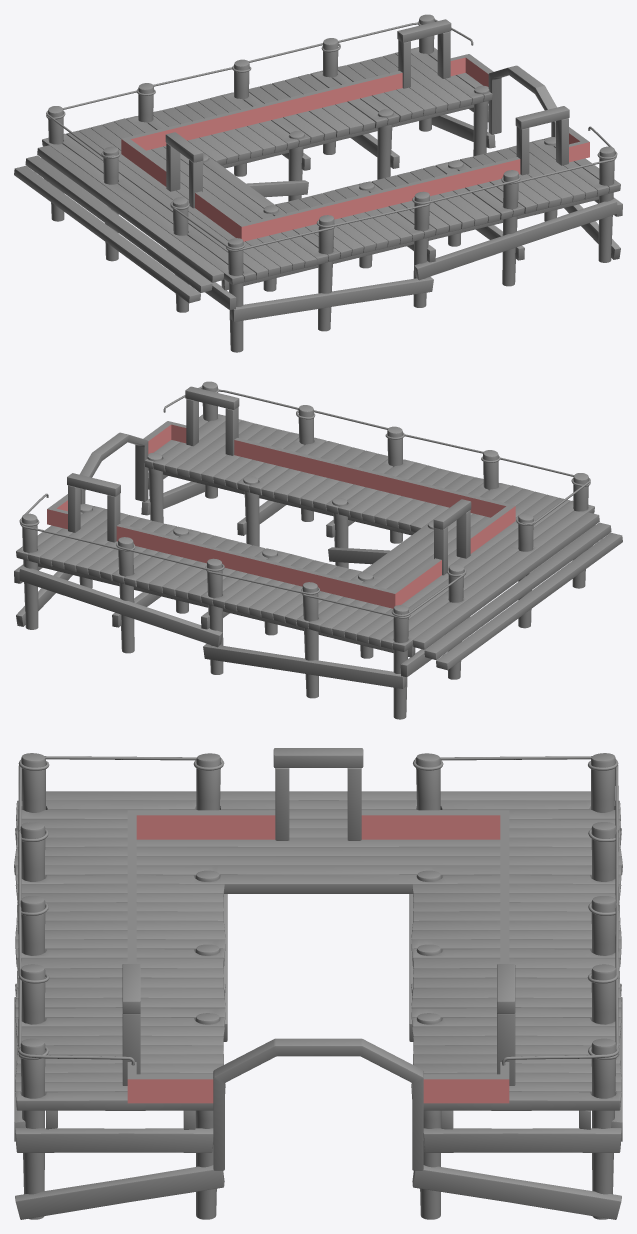
The model's file is BoatHouse03_Bottom.fbx.
The picture shows the model from 3 angles, top to bottom: view 1: azimuth 30°, elevation 25°; view 2: azimuth 150°, elevation 25°; view 3: azimuth 270°, elevation 25°; orthographic projection. The views are drawn at different scales.
Parts seen in each view (by area): view 1: SM_BoatHouse03_Boathouse03_Bottom; view 2: SM_BoatHouse03_Boathouse03_Bottom; view 3: SM_BoatHouse03_Boathouse03_Bottom.
Boxes of the visible parts, left/top/right/bottom form: SM_BoatHouse03_Boathouse03_Bottom: left=14, top=14, right=622, bottom=352; SM_BoatHouse03_Boathouse03_Bottom: left=14, top=381, right=622, bottom=719; SM_BoatHouse03_Boathouse03_Bottom: left=14, top=748, right=622, bottom=1219.
Size of the model in its own units: 1588 by 465 by 1230.
